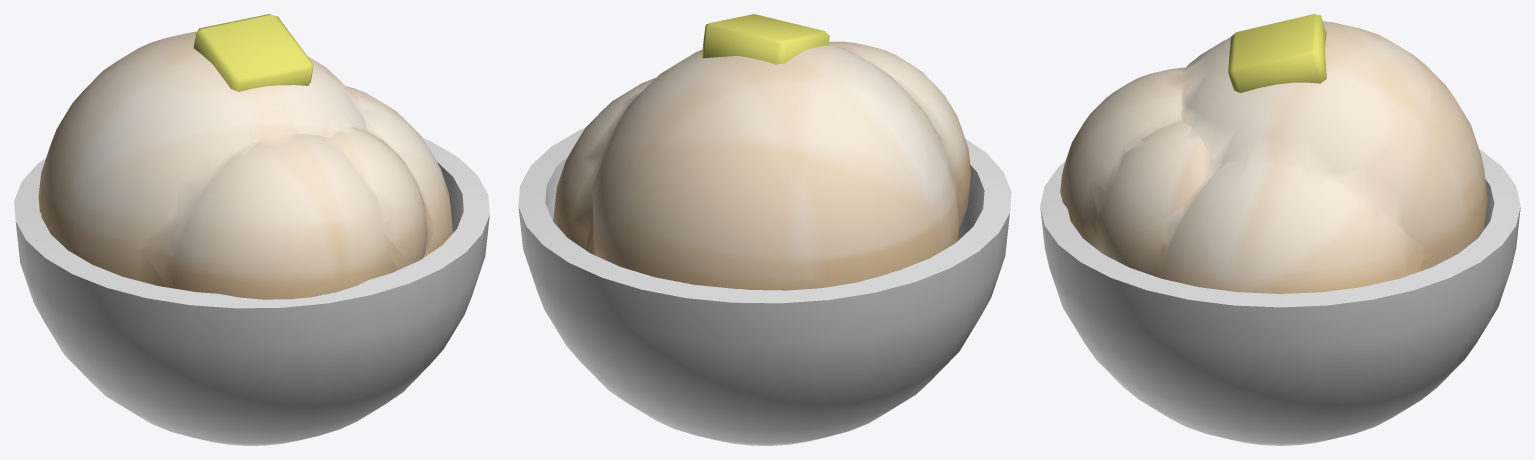
Rendered from mashed_potatoes.glb.
The picture shows the model from 3 angles, left to right: view 1: azimuth 30°, elevation 25°; view 2: azimuth 150°, elevation 25°; view 3: azimuth 270°, elevation 25°; orthographic projection. The views are drawn at different scales.
Parts seen in each view (by area): view 1: Sphere.002, Sphere, Cube; view 2: Sphere.002, Sphere, Cube; view 3: Sphere.002, Sphere, Cube.
Boxes of the visible parts, x1,y1,x2,y2 form: Sphere.002: (38, 31, 452, 299); Sphere: (14, 138, 489, 445); Cube: (193, 14, 313, 91); Sphere.002: (553, 41, 970, 290); Sphere: (518, 128, 1011, 445); Cube: (701, 14, 829, 64); Sphere.002: (1060, 21, 1487, 293); Sphere: (1040, 149, 1520, 445); Cube: (1228, 14, 1326, 92).
Bounding box in the file's own units: 0.7763 × 0.6715 × 0.7763.
2 materials, 2 textured.
